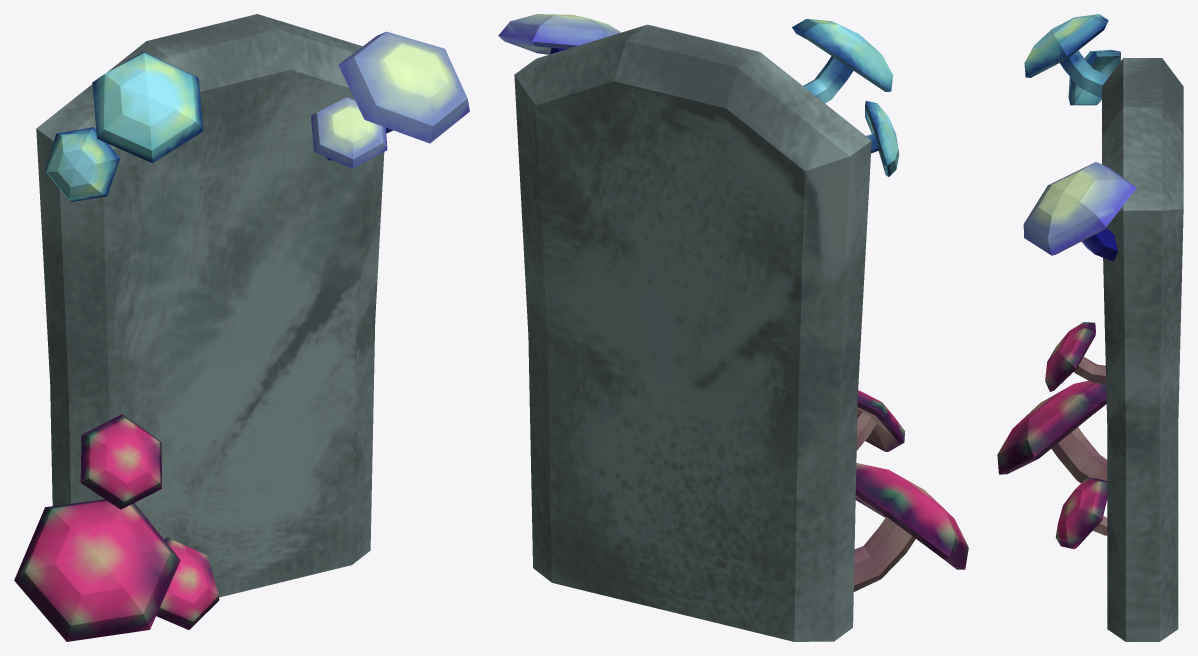
Rendered from mushroom_tombstone_03.fbx.
3 renders of one model, left to right at view 1: azimuth 30°, elevation 25°; view 2: azimuth 150°, elevation 25°; view 3: azimuth 270°, elevation 25°, orthographic. The views are drawn at different scales.
Visible parts, largest first — view 1: mushroom_tombstone_03; view 2: mushroom_tombstone_03; view 3: mushroom_tombstone_03.
Boxes of the visible parts, x1,y1,x2,y2 form: mushroom_tombstone_03: (14,14,469,641); mushroom_tombstone_03: (498,14,968,641); mushroom_tombstone_03: (997,14,1183,641).
Bounding box in the file's own units: 4.66 × 5.8 × 1.89.
Materials: 2 (2 with a texture image).
